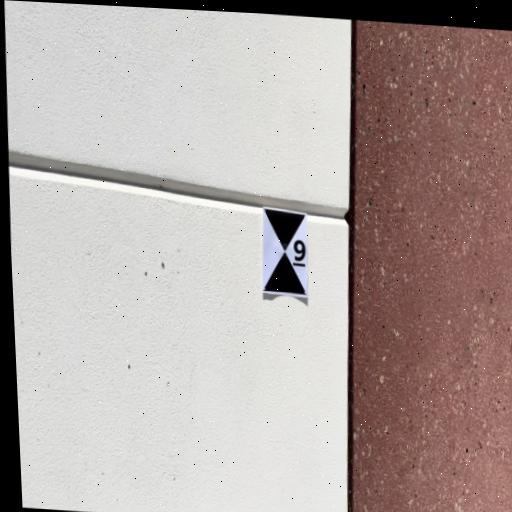target9: (261, 207, 310, 298)
